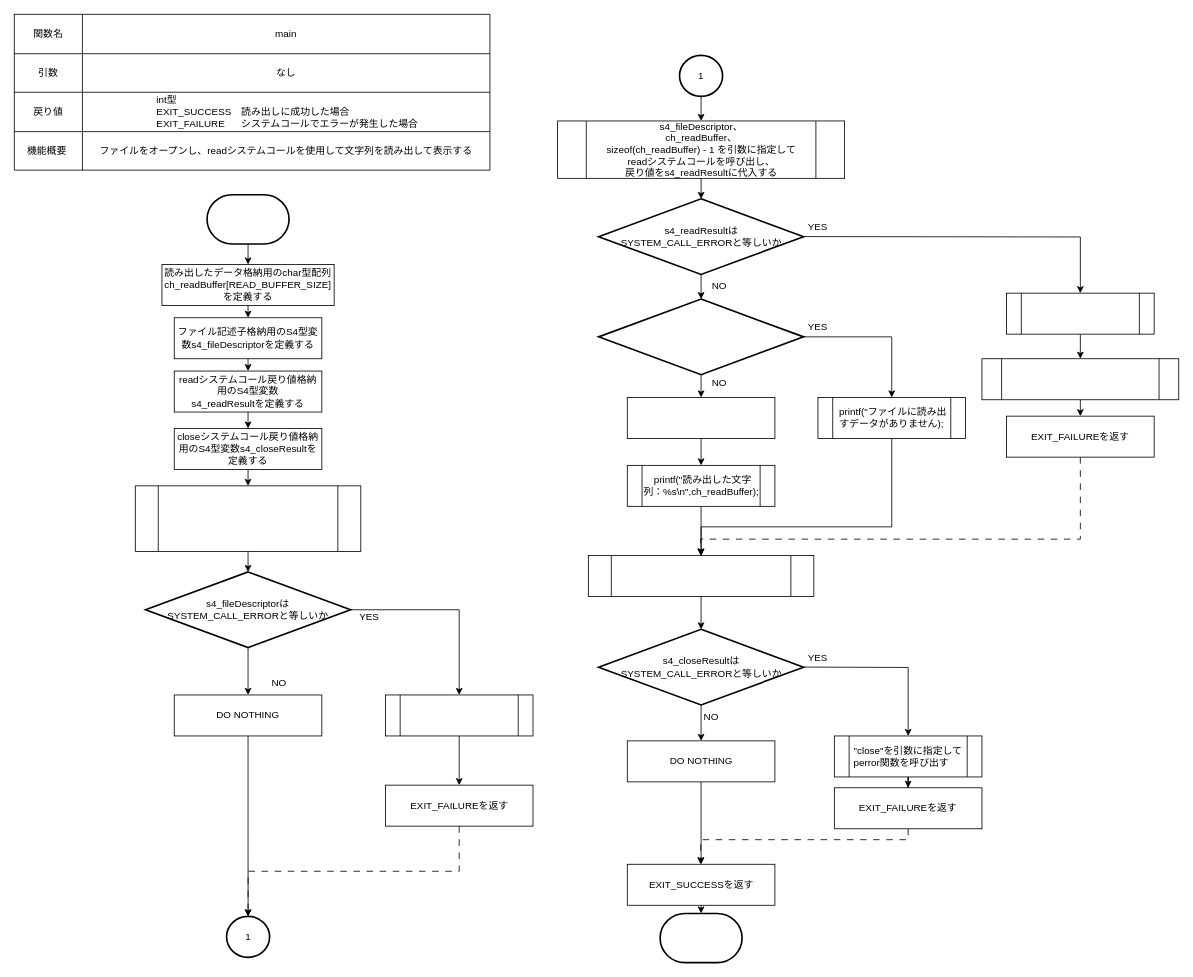
This 1193x977 diagram has some shape labels left out. The shapes that lost their labels are listed below. From the top down, each one's box as (x1, y1, x2, y2) in pixels, then its label:
(206, 194, 289, 244): 開始
(1006, 292, 1154, 334): "read"を引数に指定して perror関数を呼び出す
(597, 298, 804, 375): s4_readResult は 0 と等しいか
(981, 358, 1179, 400): s4_fileDescriptorを引数に指定して closeシステムコールを呼び出す 戻り値はVD型にキャストする
(626, 397, 775, 438): '\0'を ch_readBuffer[s4_readResult]に代入する
(134, 485, 361, 551): TARGET_FILE_PATH、 O_RDONLYを引数に指定して openシステムコールを呼び出し、 戻り値をs4_fileDescriptorに代入する
(588, 555, 814, 597): s4_fileDescriptorを引数に指定して closeシステムコールを呼び出し、 戻り値をs4_closeResultに代入する
(385, 694, 533, 736): "open"を引数に指定して perror関数を呼び出す
(659, 912, 743, 963): 終了
